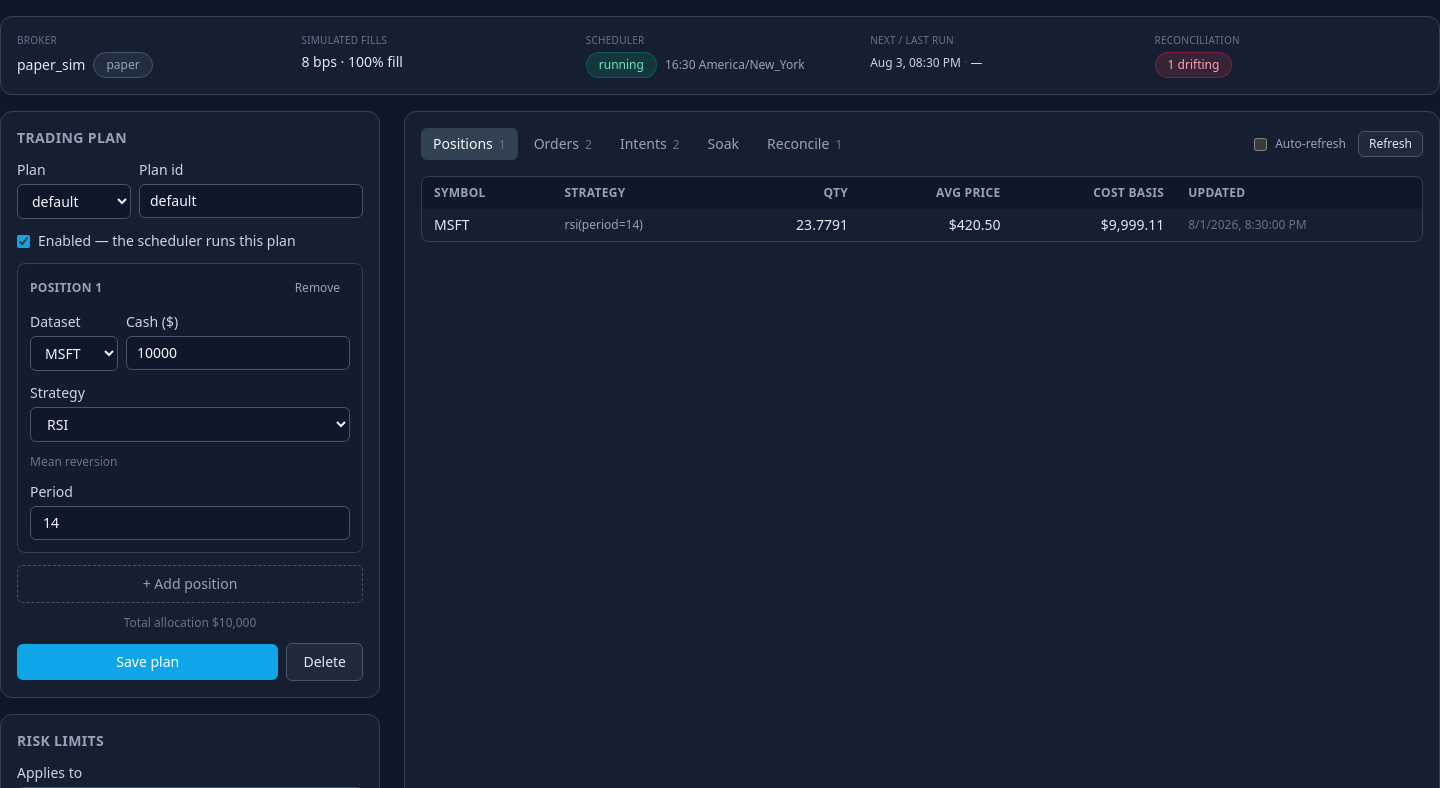
TradingConsole › reports drift in the strip and the reconcile view
Expected: the text "paper_sim" is shown, [17,55,85,75]
Expected: the text "1 drifting" is shown, [1155,52,1232,78]
Step 1. Click the button "Reconcile1" → [805, 144], box [755,128,854,160]
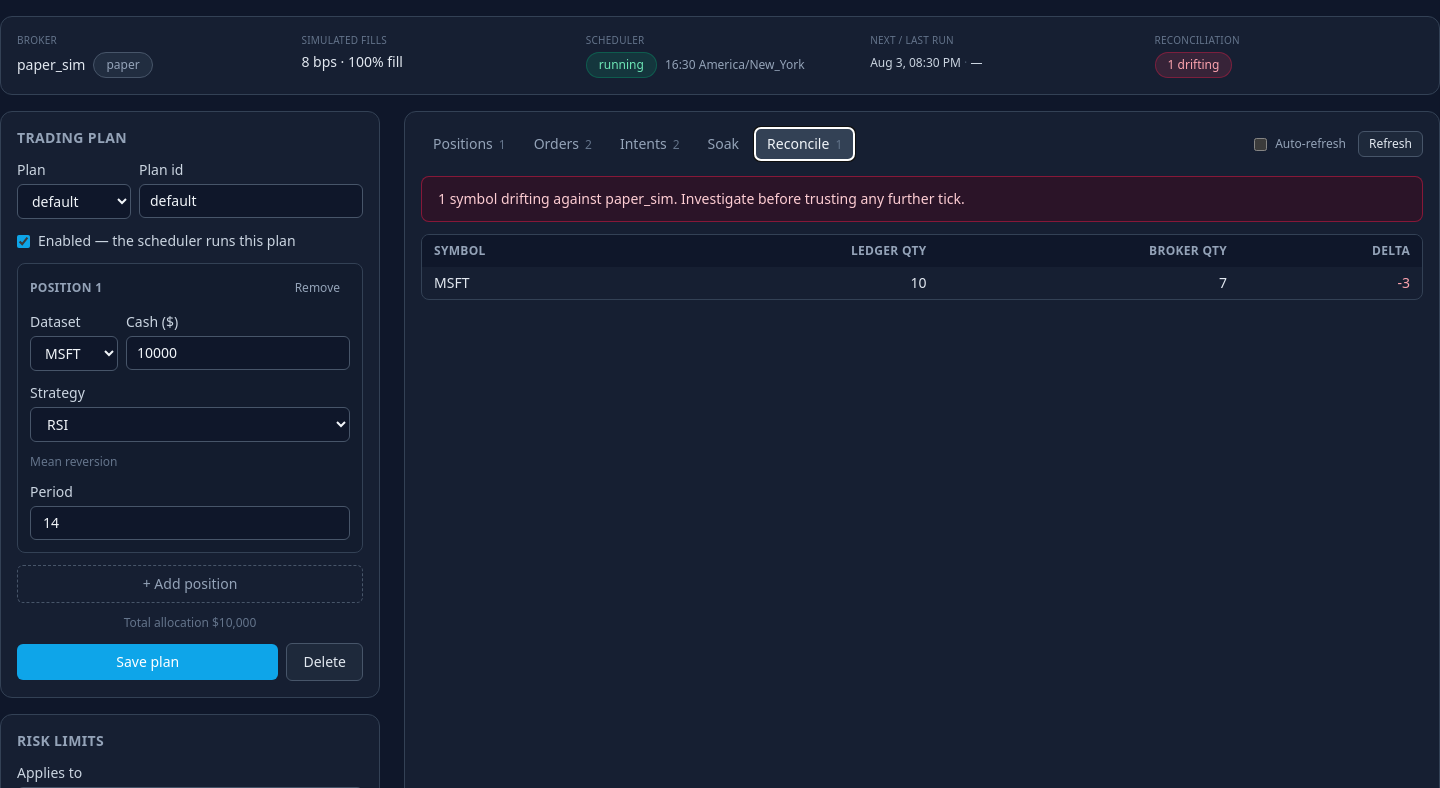
Result: the text "Investigate before trusting" is shown at [674,189,965,208]
